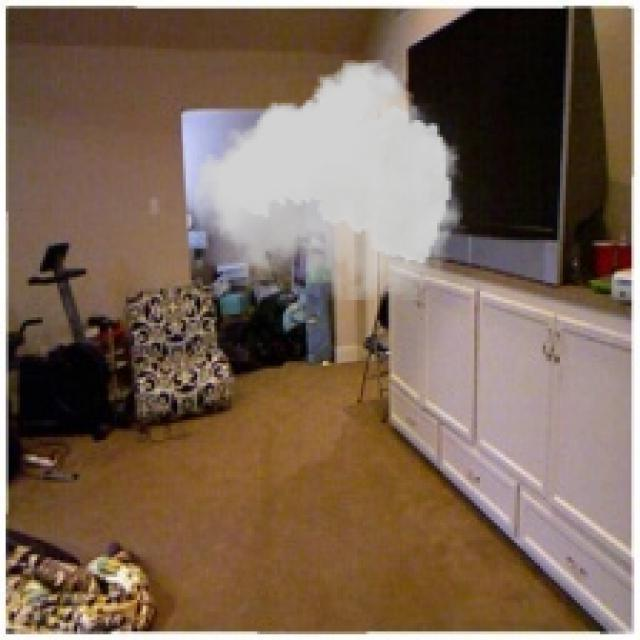Smoke: (194, 60, 463, 300)
